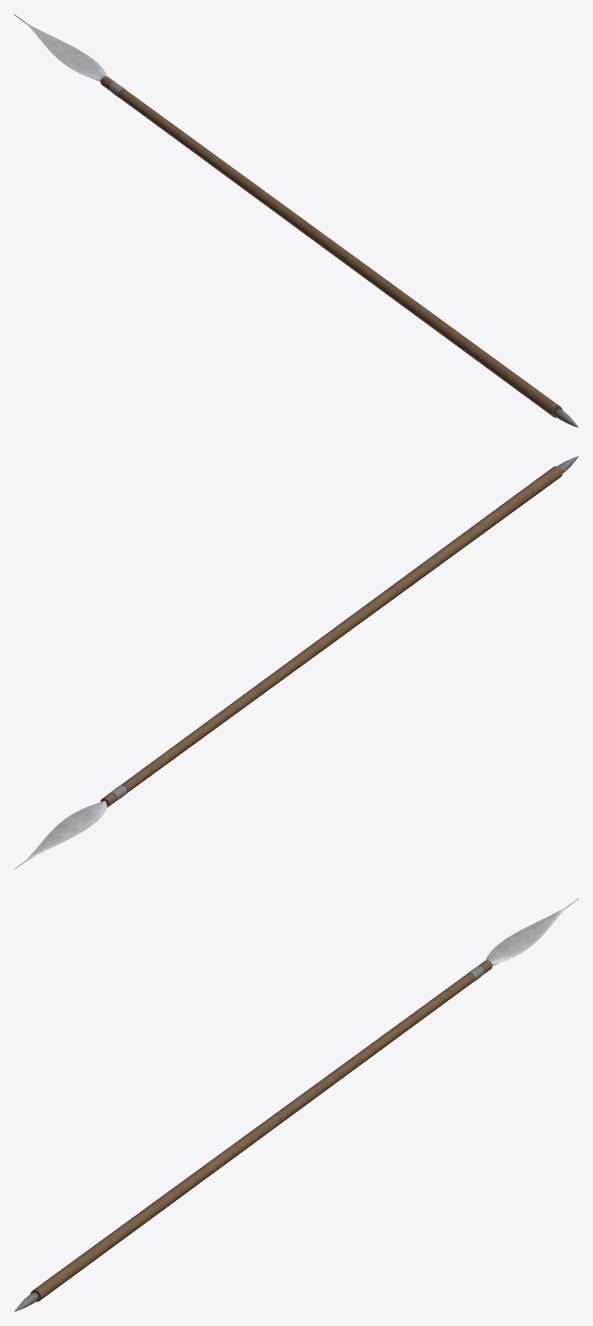
Rendered from menavlon.glb.
3 renders of one model, top to bottom at view 1: azimuth 30°, elevation 25°; view 2: azimuth 150°, elevation 25°; view 3: azimuth 330°, elevation 25°, orthographic.
Visible parts, largest first — view 1: menavlon; view 2: menavlon; view 3: menavlon.
Boxes of the visible parts, x1=… form: menavlon: x1=14, y1=14, x2=578, y2=427; menavlon: x1=14, y1=456, x2=578, y2=869; menavlon: x1=14, y1=898, x2=578, y2=1311.
Size of the model in its own units: 0.0767 by 0.0306 by 2.8.
Materials: 1 (1 with a texture image).
